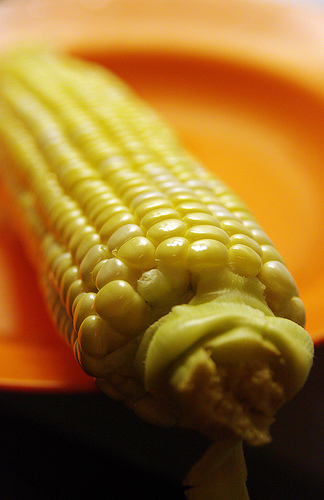corn: (0, 42, 316, 430)
